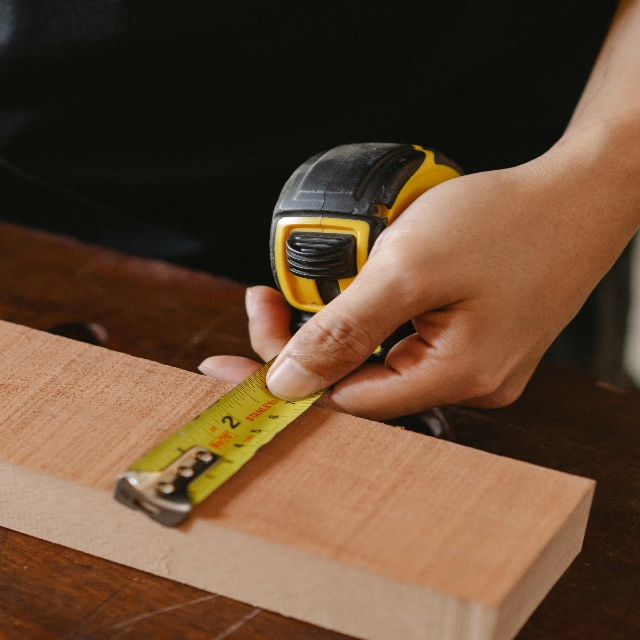Sin_guantes: (197, 148, 606, 423)
